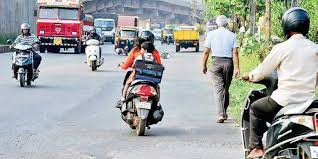helmet: (281, 6, 311, 38), (78, 25, 102, 43), (18, 20, 32, 35)
